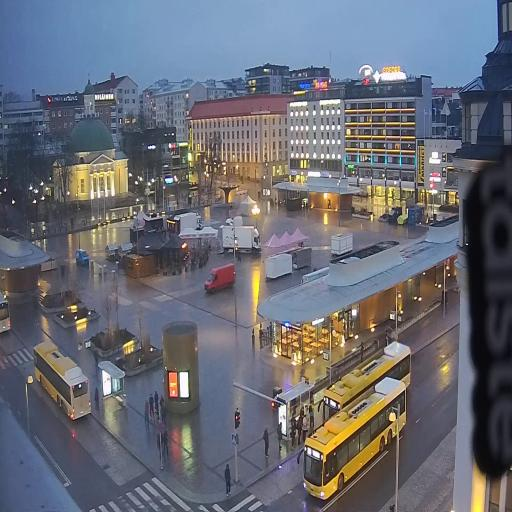bus: (296, 375, 409, 506), (318, 338, 414, 428), (28, 331, 96, 429), (0, 284, 15, 339)
delivery: (200, 259, 240, 296), (219, 223, 265, 253), (172, 209, 206, 237), (222, 211, 244, 229), (73, 247, 91, 268)
